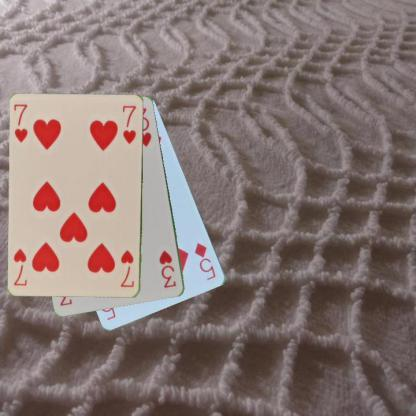3h: (157, 247, 178, 290)
5d: (192, 240, 217, 282)
7h: (12, 102, 29, 144), (118, 248, 135, 289)
